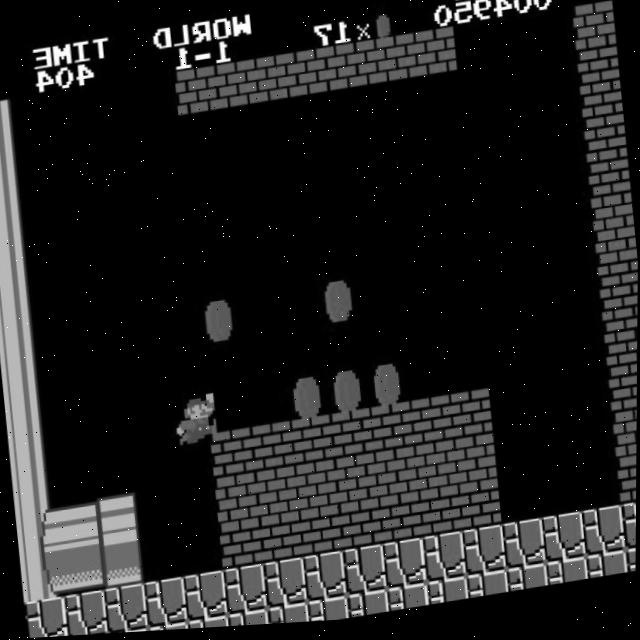1- brick_block: (253, 469, 300, 522), (412, 445, 459, 497), (417, 490, 464, 542), (332, 44, 379, 96), (292, 50, 339, 102), (252, 56, 299, 108), (213, 475, 260, 527), (571, 7, 617, 59), (589, 188, 635, 240), (412, 32, 458, 84), (453, 439, 499, 491), (457, 484, 503, 536), (372, 38, 418, 90), (373, 451, 419, 503), (377, 496, 423, 548), (333, 457, 379, 509), (338, 502, 384, 554), (293, 463, 339, 515), (298, 508, 344, 560), (213, 62, 259, 114), (258, 514, 304, 566), (173, 68, 219, 120), (218, 520, 264, 572), (448, 394, 494, 445), (585, 143, 630, 195), (576, 53, 621, 104), (409, 400, 454, 451), (369, 406, 414, 457), (329, 412, 374, 463), (289, 418, 334, 469), (249, 424, 294, 475), (210, 430, 255, 481), (581, 98, 625, 149), (594, 233, 638, 284), (598, 278, 638, 330), (603, 324, 638, 376), (607, 370, 638, 421), (612, 415, 637, 465), (616, 460, 637, 511)
11- little_mario: (172, 392, 221, 446)
14- pipe: (54, 499, 101, 551), (19, 550, 66, 602), (59, 544, 105, 597), (6, 414, 52, 467), (2, 369, 48, 421), (15, 506, 61, 557), (11, 460, 56, 511), (0, 324, 42, 375), (0, 278, 38, 330), (0, 233, 34, 285), (0, 189, 29, 239), (0, 143, 24, 193), (0, 97, 20, 148)
15- pipe_head: (94, 493, 141, 545), (99, 538, 145, 590)
17- undestructible_block: (461, 530, 508, 582), (421, 536, 468, 588), (302, 554, 349, 606), (262, 560, 309, 612), (222, 566, 269, 618), (541, 517, 587, 570), (501, 523, 547, 576), (382, 541, 428, 594), (103, 584, 150, 635), (581, 512, 627, 564), (342, 548, 388, 600), (183, 572, 229, 624), (143, 578, 189, 630), (63, 590, 110, 637), (24, 596, 71, 639), (506, 569, 550, 598), (466, 575, 510, 604), (586, 557, 629, 586), (546, 563, 589, 592), (426, 581, 469, 610), (387, 587, 430, 616), (347, 593, 390, 622), (307, 599, 350, 626), (267, 604, 310, 627), (621, 506, 637, 557), (227, 611, 270, 629), (187, 617, 230, 631), (147, 623, 190, 633), (625, 552, 637, 579)
2- coin: (195, 294, 242, 346), (364, 360, 410, 412), (315, 276, 361, 328), (324, 367, 370, 419), (284, 373, 330, 425)
